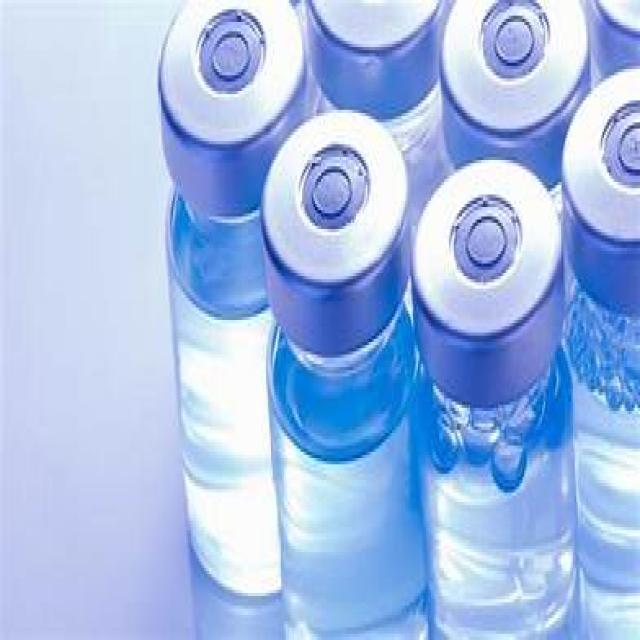vial: (257, 92, 413, 316), (409, 158, 570, 356), (160, 6, 310, 168), (443, 0, 594, 129), (564, 70, 640, 289), (316, 0, 446, 110), (590, 0, 639, 52)
